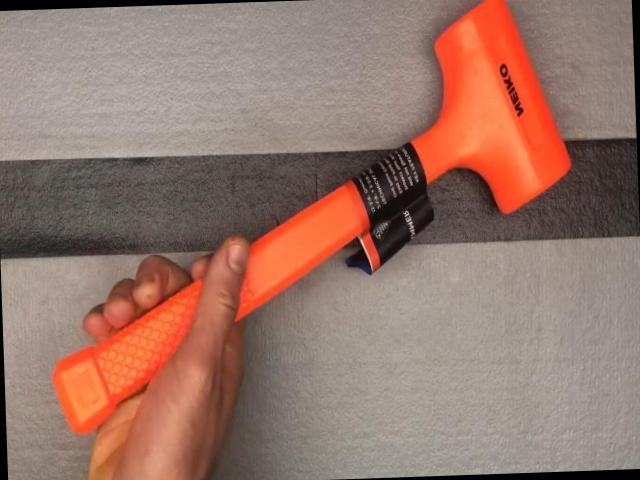hammer: (38, 0, 581, 437)
